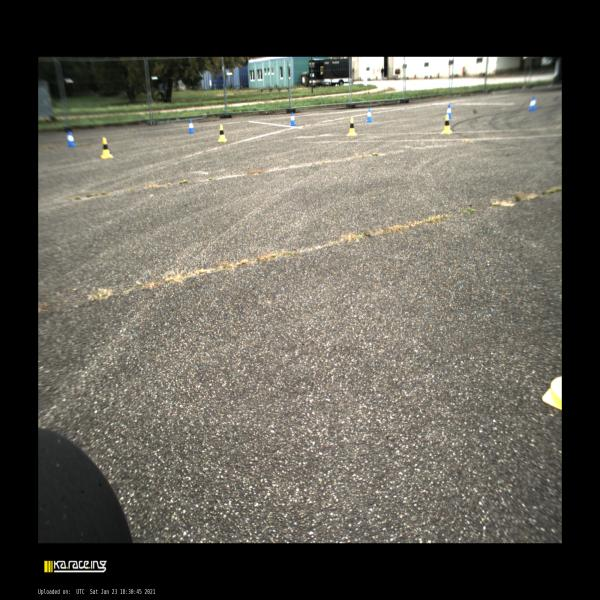blue_cone: (66, 128, 76, 148), (445, 103, 453, 118), (289, 112, 297, 126), (529, 96, 536, 112), (188, 118, 195, 133), (366, 108, 373, 123)
yellow_cone: (100, 138, 113, 158), (441, 114, 452, 134), (217, 124, 227, 142), (346, 118, 356, 136)
